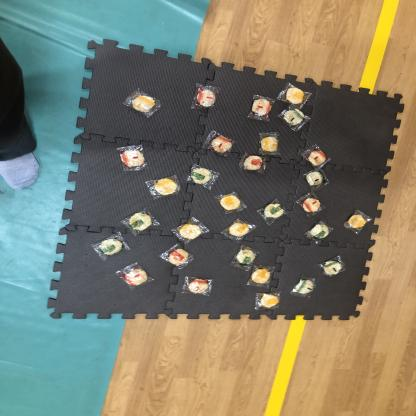green_setoshio: (92, 232, 129, 262), (123, 207, 161, 235), (186, 163, 218, 189), (278, 106, 310, 131), (257, 196, 286, 221), (304, 220, 334, 244), (231, 245, 256, 269), (304, 169, 330, 191), (291, 276, 318, 297), (320, 256, 346, 275)
red_setoshio: (117, 263, 156, 292), (116, 144, 149, 172), (203, 129, 236, 157), (181, 274, 217, 299), (191, 83, 222, 112), (161, 244, 194, 271), (247, 94, 275, 122), (237, 152, 269, 176), (296, 192, 326, 217), (303, 144, 331, 168)
yellow_setoshio: (123, 86, 164, 118), (142, 172, 184, 200), (222, 218, 260, 242), (173, 217, 209, 242), (216, 190, 248, 217), (278, 83, 313, 107), (344, 209, 371, 234), (248, 265, 277, 288), (257, 131, 281, 155), (255, 291, 282, 312)
